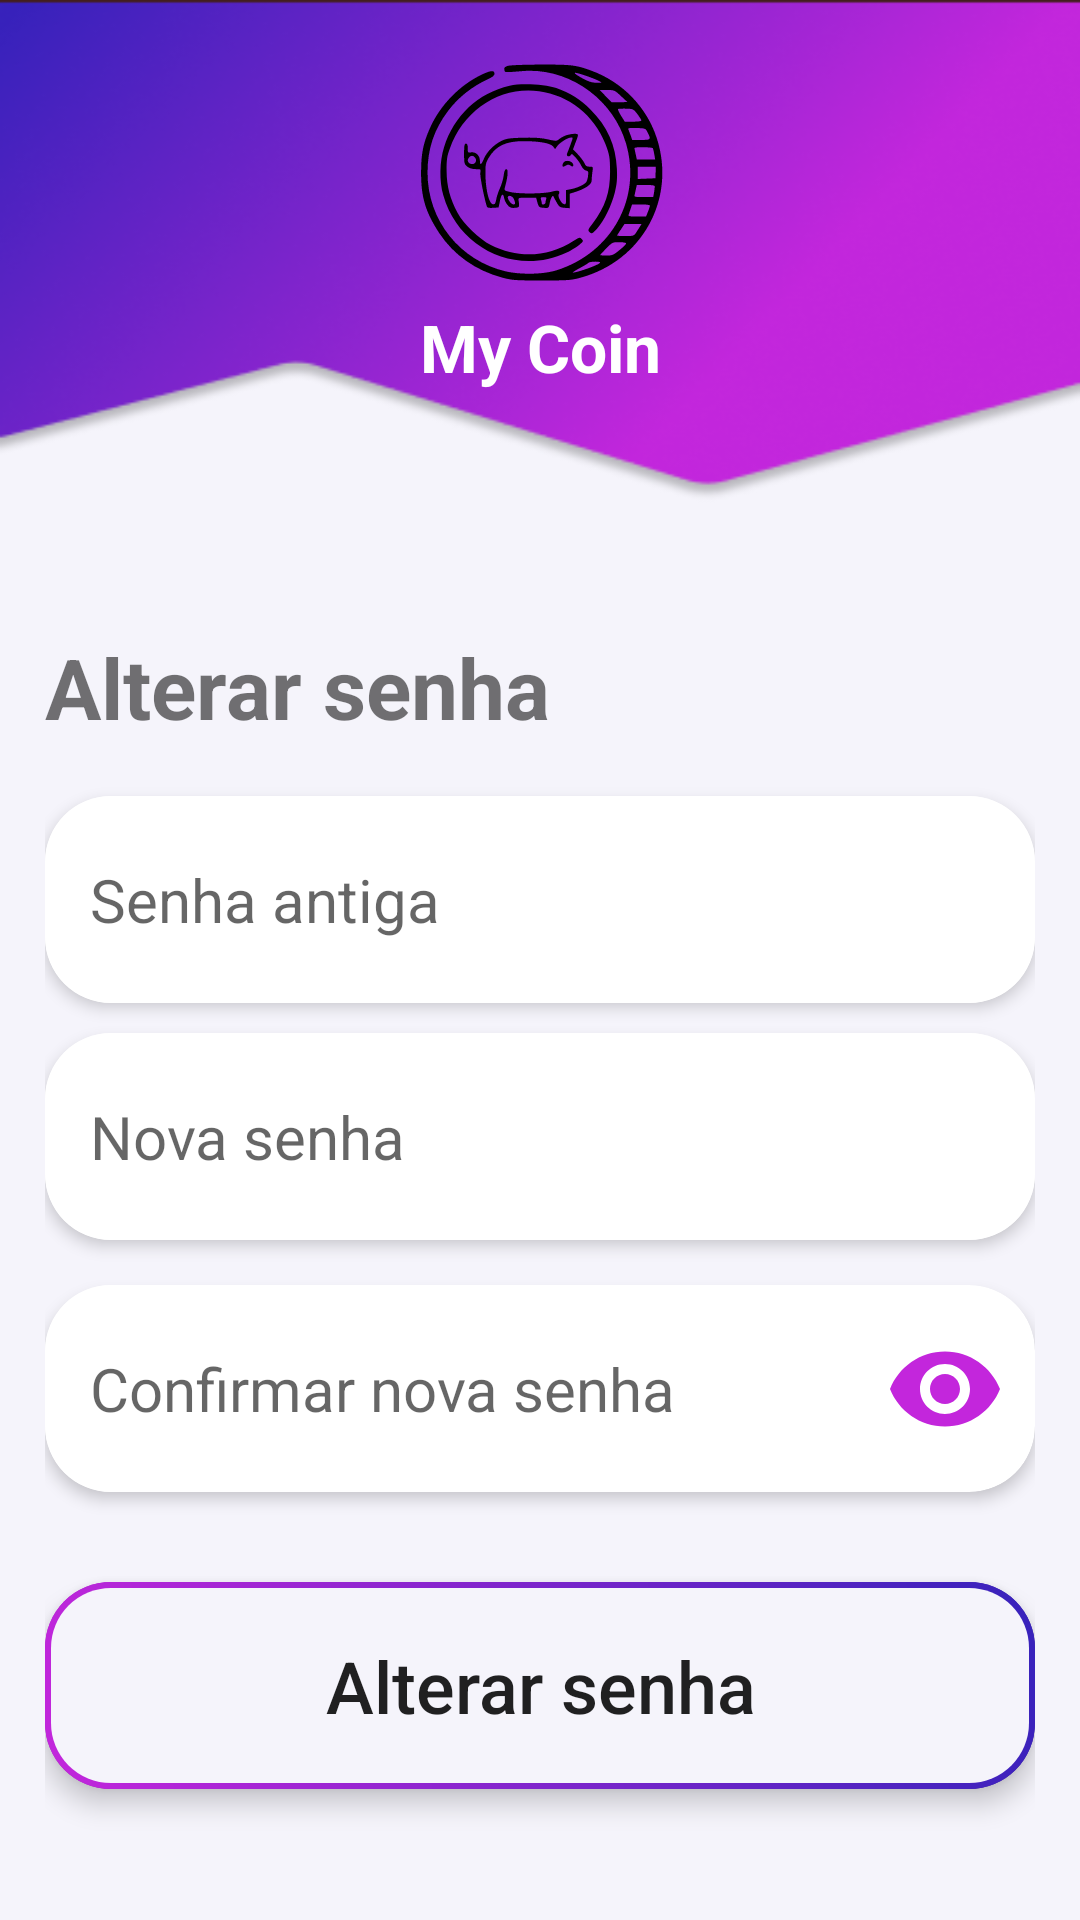

Icons on this 1080 × 1920 Android screen, each with its box as rect(x1, y1, x2, y2):
eye: rect(890, 1351, 1000, 1427)
